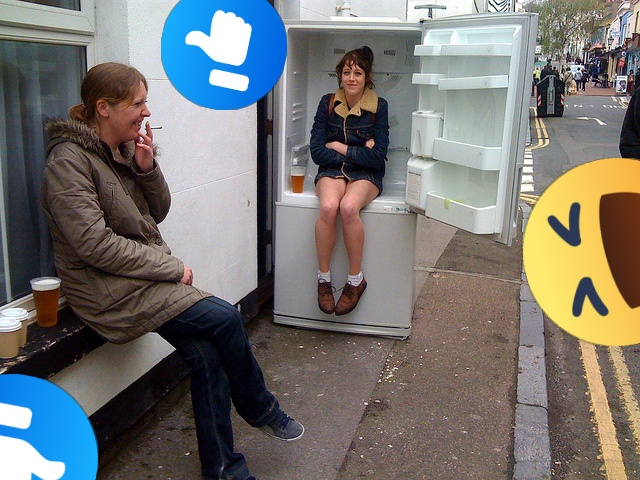haha: (523, 158, 640, 346)
like: (161, 0, 287, 110), (0, 374, 98, 480)
